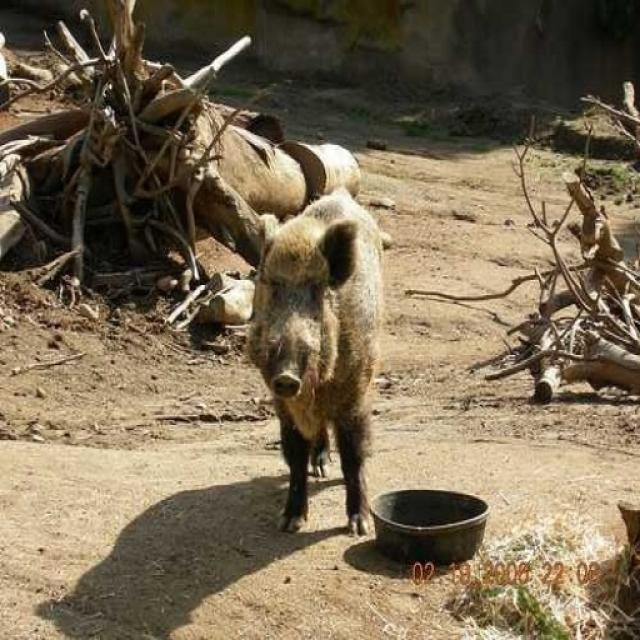pig: (236, 190, 395, 540)
